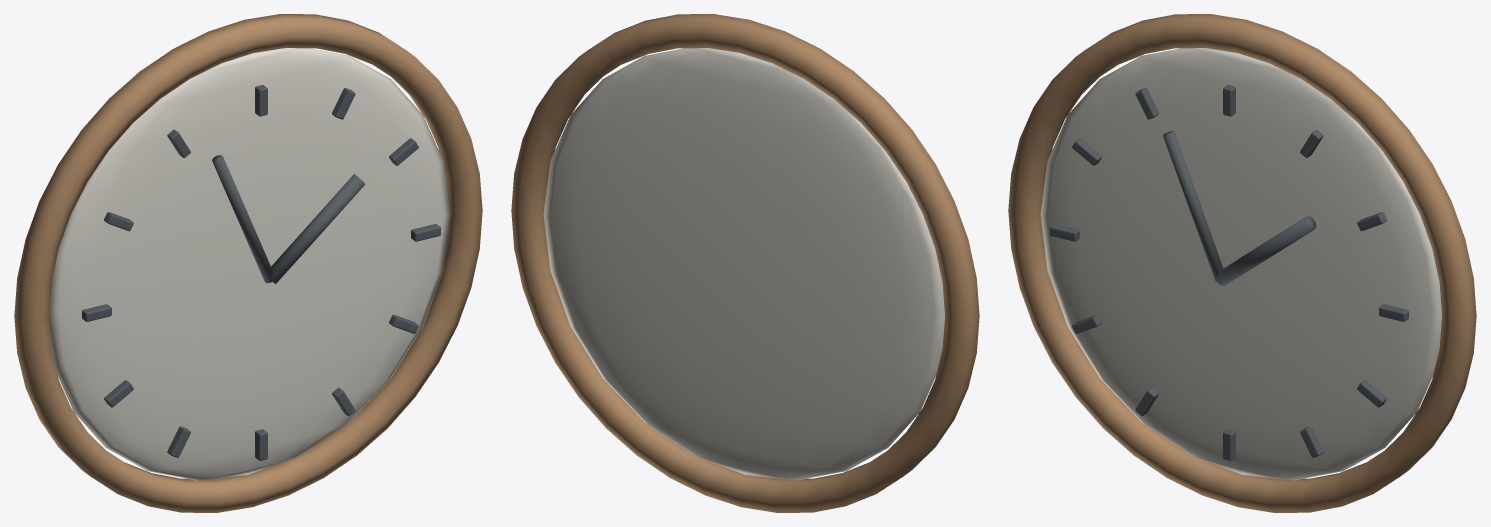
Rendered from atelier-clock.glb.
The picture shows the model from 3 angles, left to right: view 1: azimuth 30°, elevation 25°; view 2: azimuth 150°, elevation 25°; view 3: azimuth 330°, elevation 25°; orthographic projection.
Visible parts, largest first — view 1: ceramic.084, legs.151, metal.109; view 2: ceramic.084, legs.151; view 3: ceramic.084, legs.151, metal.109.
Part boxes in pixels (left/top/right/bottom): ceramic.084: left=49, top=48, right=450, bottom=480; legs.151: left=14, top=14, right=482, bottom=512; metal.109: left=82, top=85, right=440, bottom=460; ceramic.084: left=543, top=48, right=944, bottom=480; legs.151: left=511, top=14, right=979, bottom=512; ceramic.084: left=1040, top=48, right=1441, bottom=480; legs.151: left=1008, top=14, right=1476, bottom=512; metal.109: left=1050, top=85, right=1408, bottom=460.
Bounding box in the file's own units: 0.6146 × 0.6146 × 0.079.
